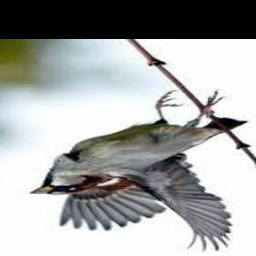Sparrow: (29, 91, 247, 252)
